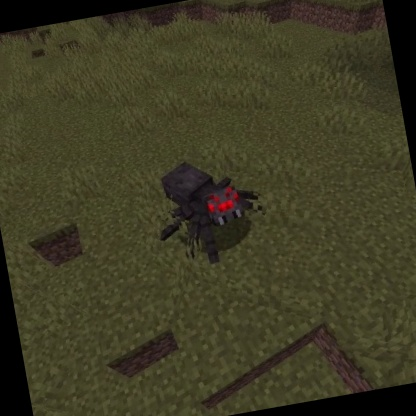spider: (144, 145, 278, 277)
